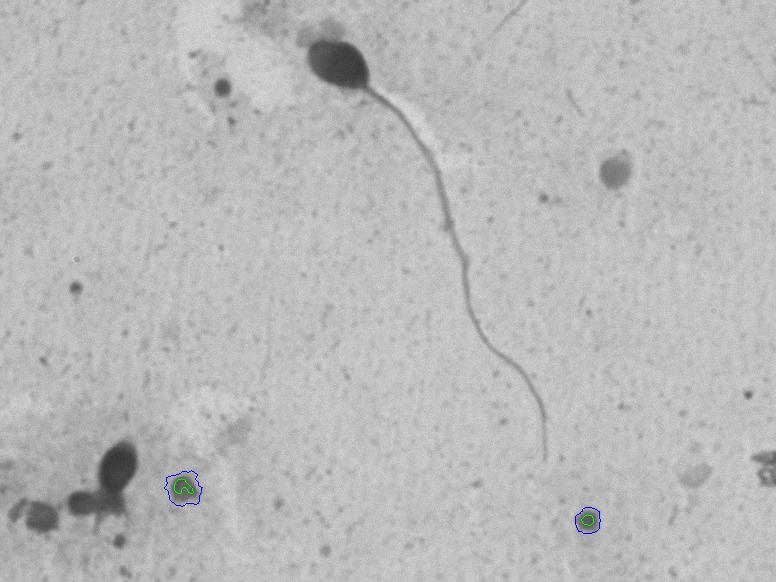Abnormal: (282, 28, 612, 461)
